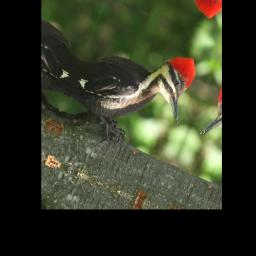Woodpecker: (59, 17, 203, 163)
